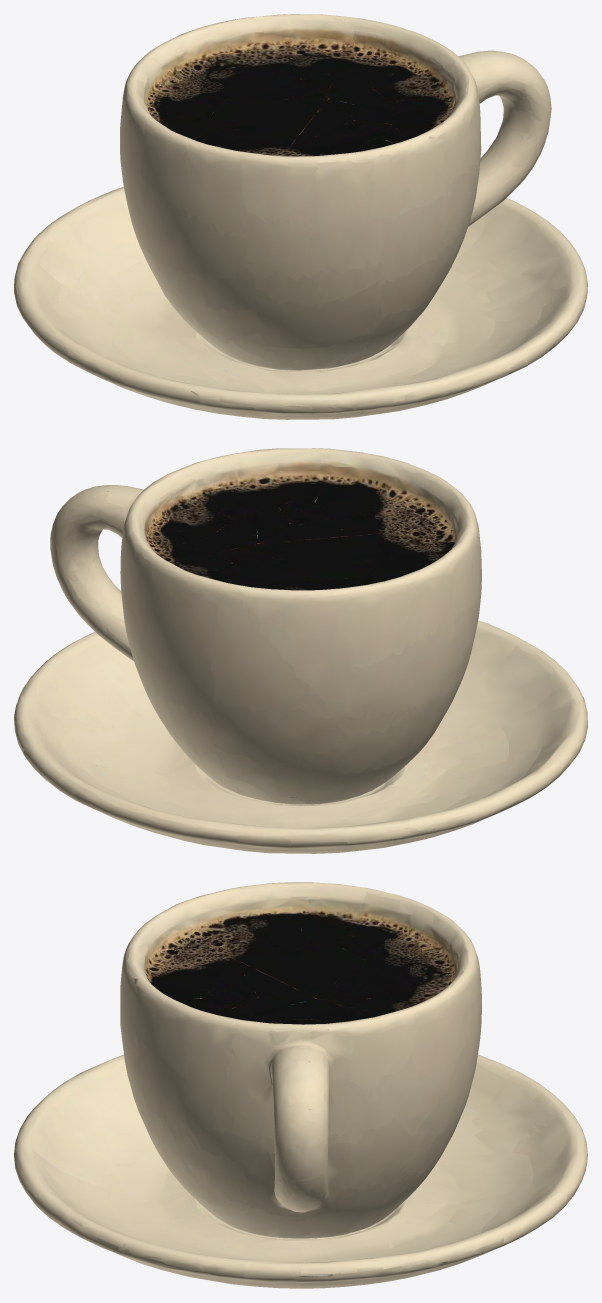
The model's file is upm_mv3pqceveu.glb.
The picture shows the model from 3 angles, top to bottom: view 1: azimuth 30°, elevation 25°; view 2: azimuth 150°, elevation 25°; view 3: azimuth 270°, elevation 25°; orthographic projection.
Bounding box in the file's own units: 1.9 × 0.9657 × 1.9.
Materials: 1 (1 with a texture image).
